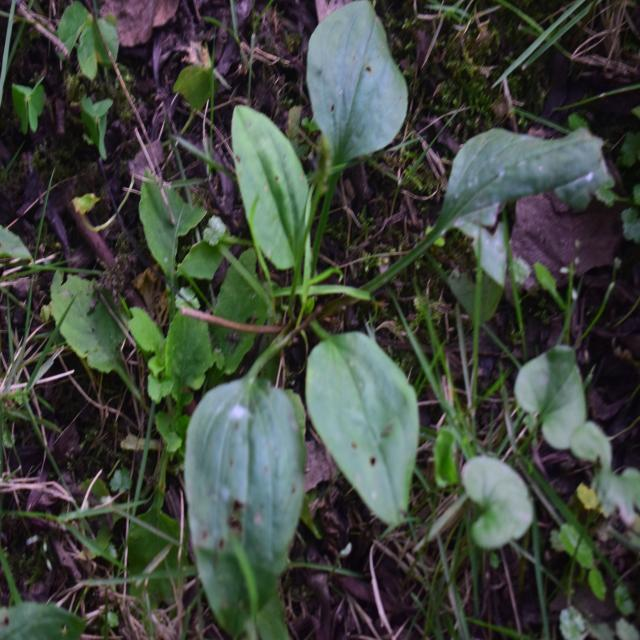plantain: (172, 2, 517, 545)
